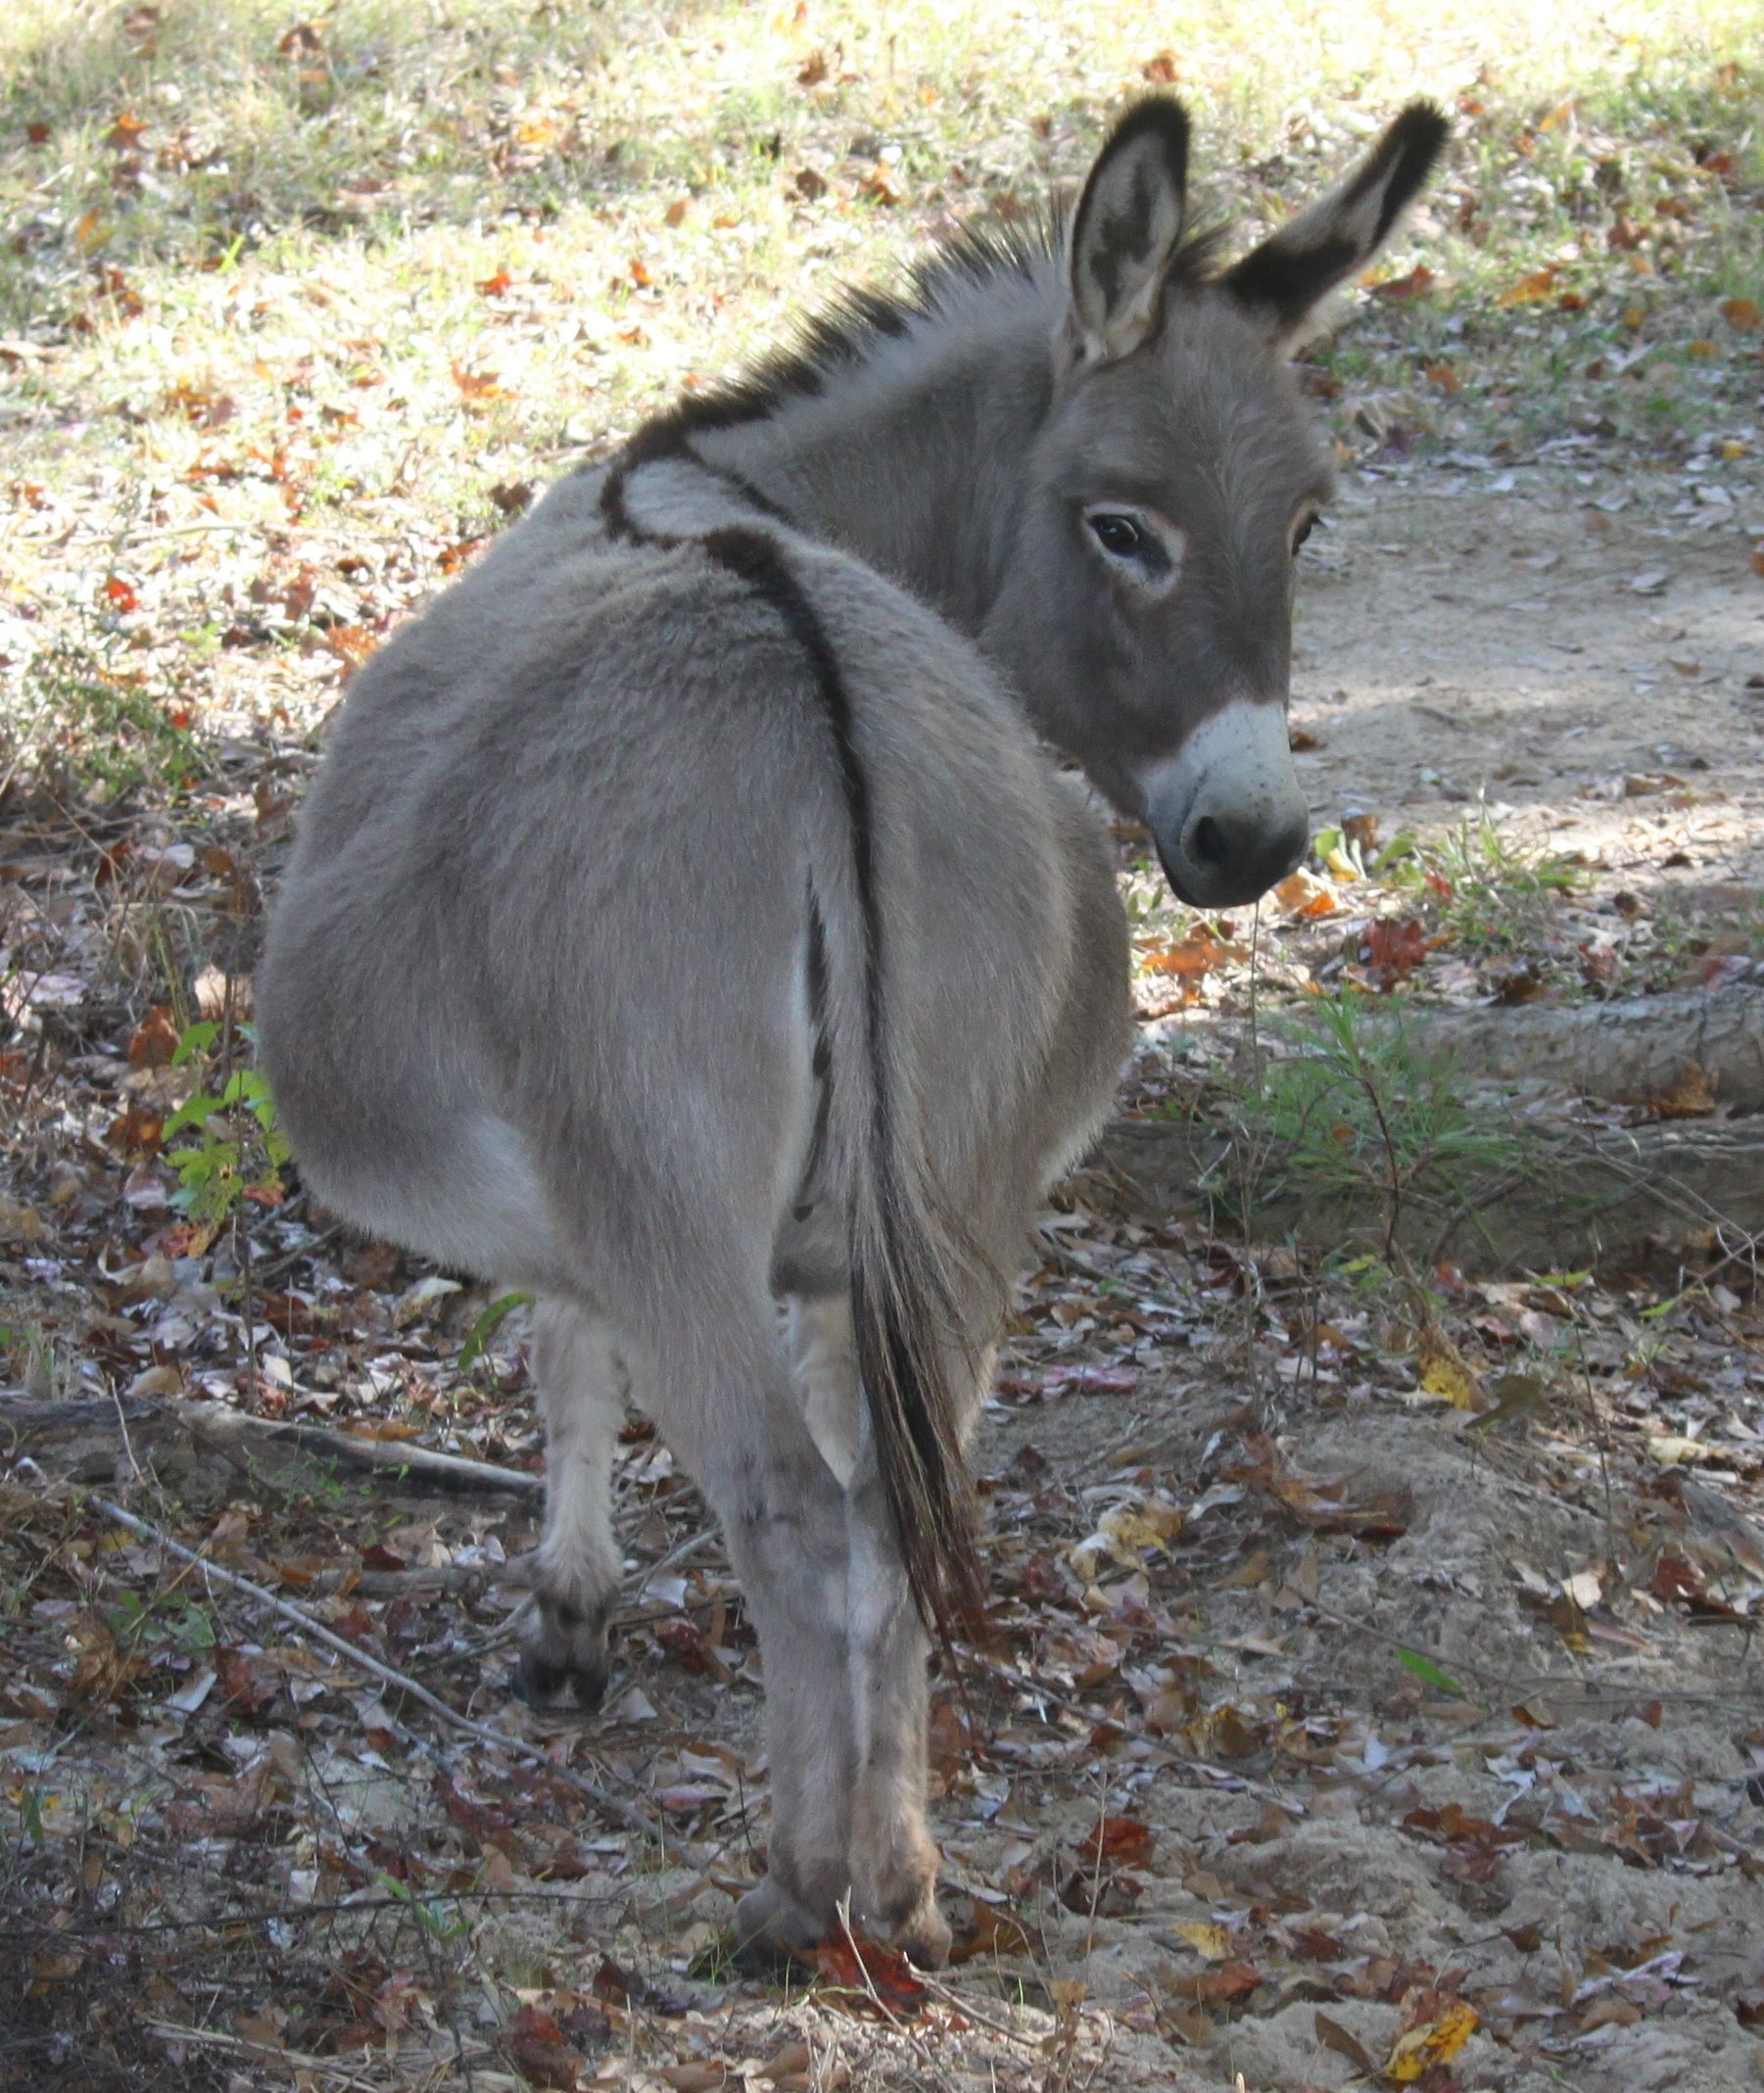donkey: (235, 63, 1482, 1944)
